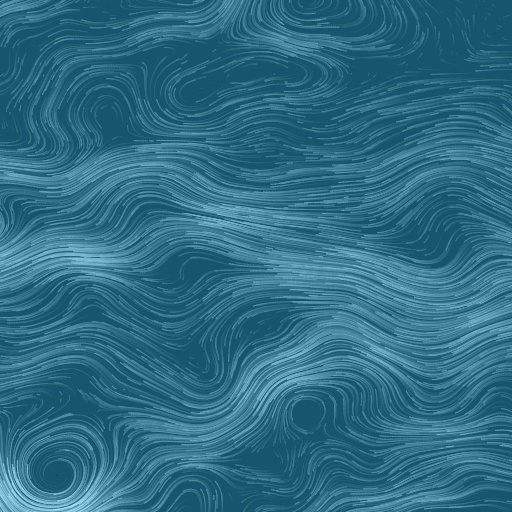eddy: (162, 44, 325, 120), (4, 434, 115, 510), (279, 387, 337, 439)
